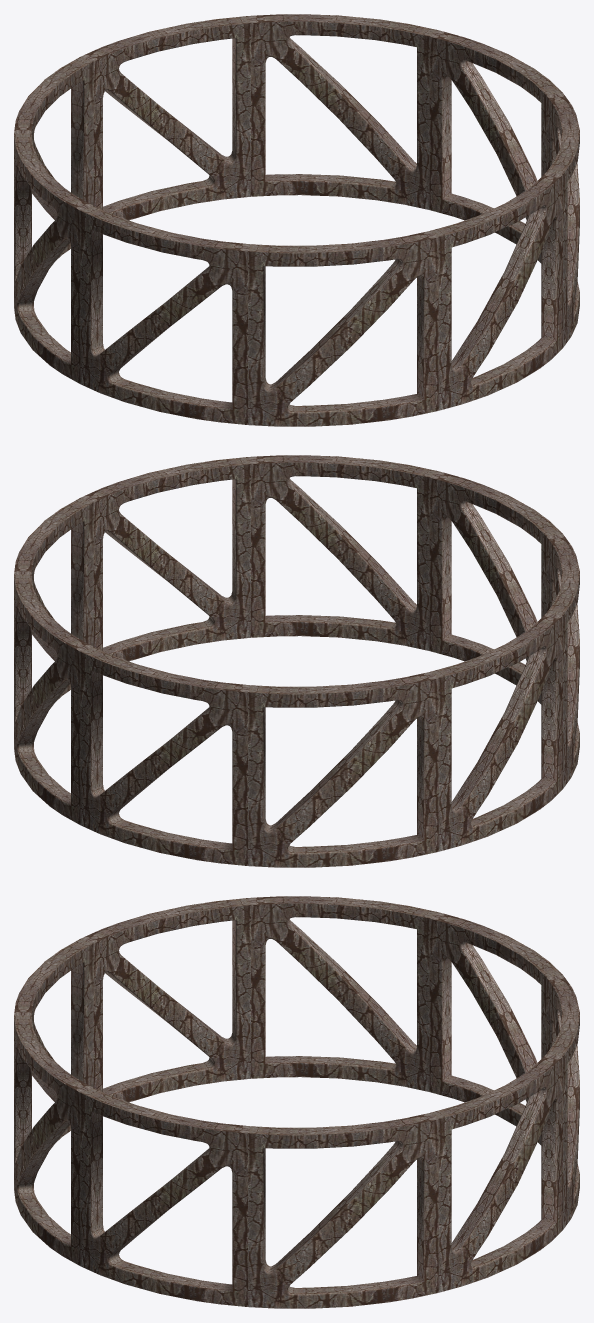
File: Ring_cyl_big.FBX
3 views of the same model, one above another, from view 1: azimuth 30°, elevation 25°; view 2: azimuth 150°, elevation 25°; view 3: azimuth 270°, elevation 25° (orthographic).
Parts seen in each view (by area): view 1: Ring_cyl_big; view 2: Ring_cyl_big; view 3: Ring_cyl_big.
Part boxes in pixels (<box>): Ring_cyl_big: <box>14,14,579,426</box>; Ring_cyl_big: <box>14,455,579,867</box>; Ring_cyl_big: <box>14,896,579,1308</box>.
Size of the model in its own units: 11.82 by 11.82 by 4.
